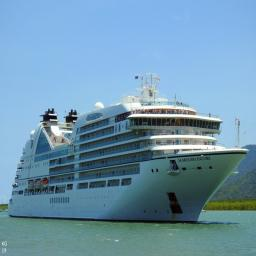cruises: (8, 73, 252, 229)
